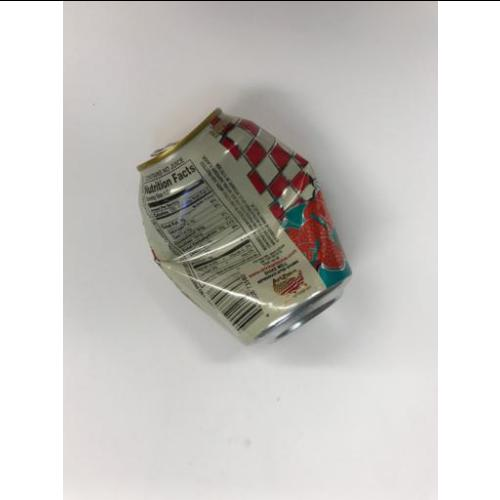metal: (135, 112, 350, 346)
